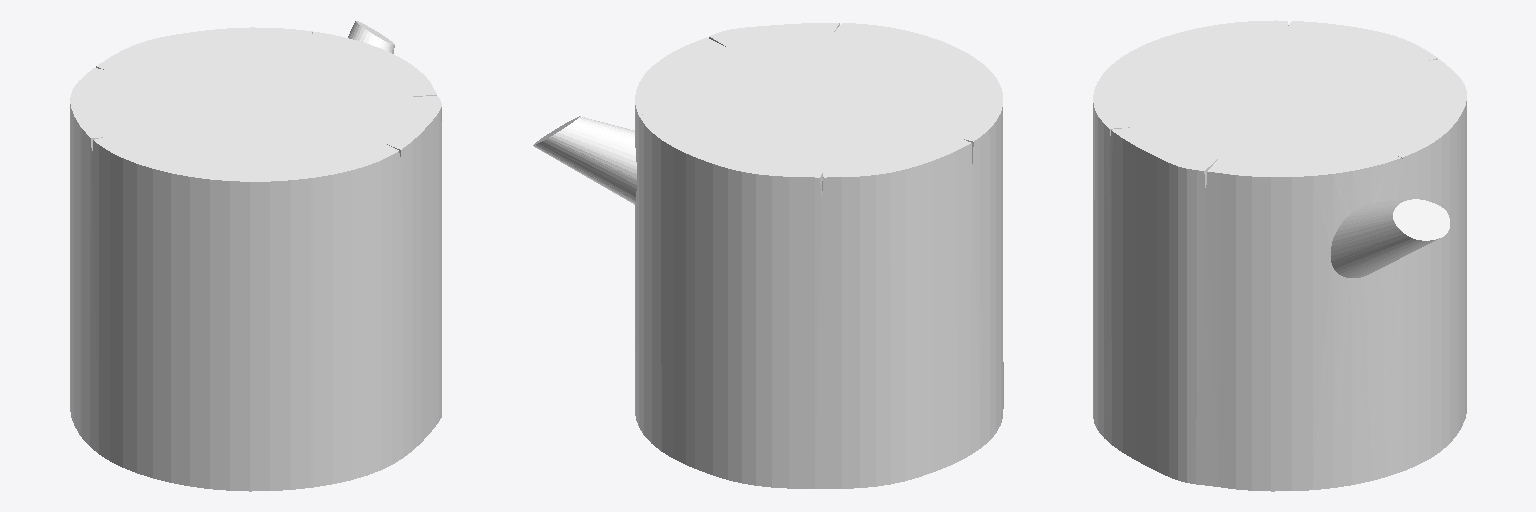
robot.urdf — apple:
<?xml version="1.0" encoding="utf-8"?>
<robot name="apple">
  <link name="base_link">
    <contact>
      <lateral_friction value="0.5"/>
      <rolling_friction value="0.0"/>
      <contact_cfm value="0.0"/>
      <contact_erp value="1.0"/>
    </contact>
    <inertial>
      <origin rpy="0 0 0" xyz="0 0 0"/>
      <mass value=".1"/>
      <inertia ixx="0" ixy="0" ixz="0" iyy="0" iyz="0" izz="0"/>
    </inertial>
    <visual>
      <origin rpy="1.57 0 0" xyz="0 0 0"/>
      <geometry>
        <mesh filename="models/meshes/wood/Wood.obj" scale="0.7 0.7 0.7"/>
      </geometry>
      <material name="hi">
        <color rgba="1 1 1 1"/>
      </material>
    </visual>
    <collision>
      <origin rpy="1.57 0 0" xyz="0 0 0"/>
      <geometry>
        <mesh filename="models/meshes/wood/Wood.obj" scale="0.7 0.7 0.7"/>
      </geometry>
    </collision>
  </link>
</robot>

--- Render facts (derived) ---
3 views of the same robot in one strip: view 1: azimuth 30°, elevation 25°; view 2: azimuth 150°, elevation 25°; view 3: azimuth 270°, elevation 25° (orthographic).
Robot: apple — 1 links, 0 joints (none); root link base_link; default pose: every joint at zero.
Links seen in each view (by area): view 1: base_link; view 2: base_link; view 3: base_link.
Boxes of the visible links, box(x1,y1,x2,y2) form: base_link: box(70, 21, 441, 491); base_link: box(533, 23, 1003, 488); base_link: box(1093, 20, 1466, 491).
Bounding box of the posed robot: 0.3629 × 0.3176 × 0.2943 m (x, y, z).
1 mesh visuals loaded from 1 distinct referenced files (1 OBJ).